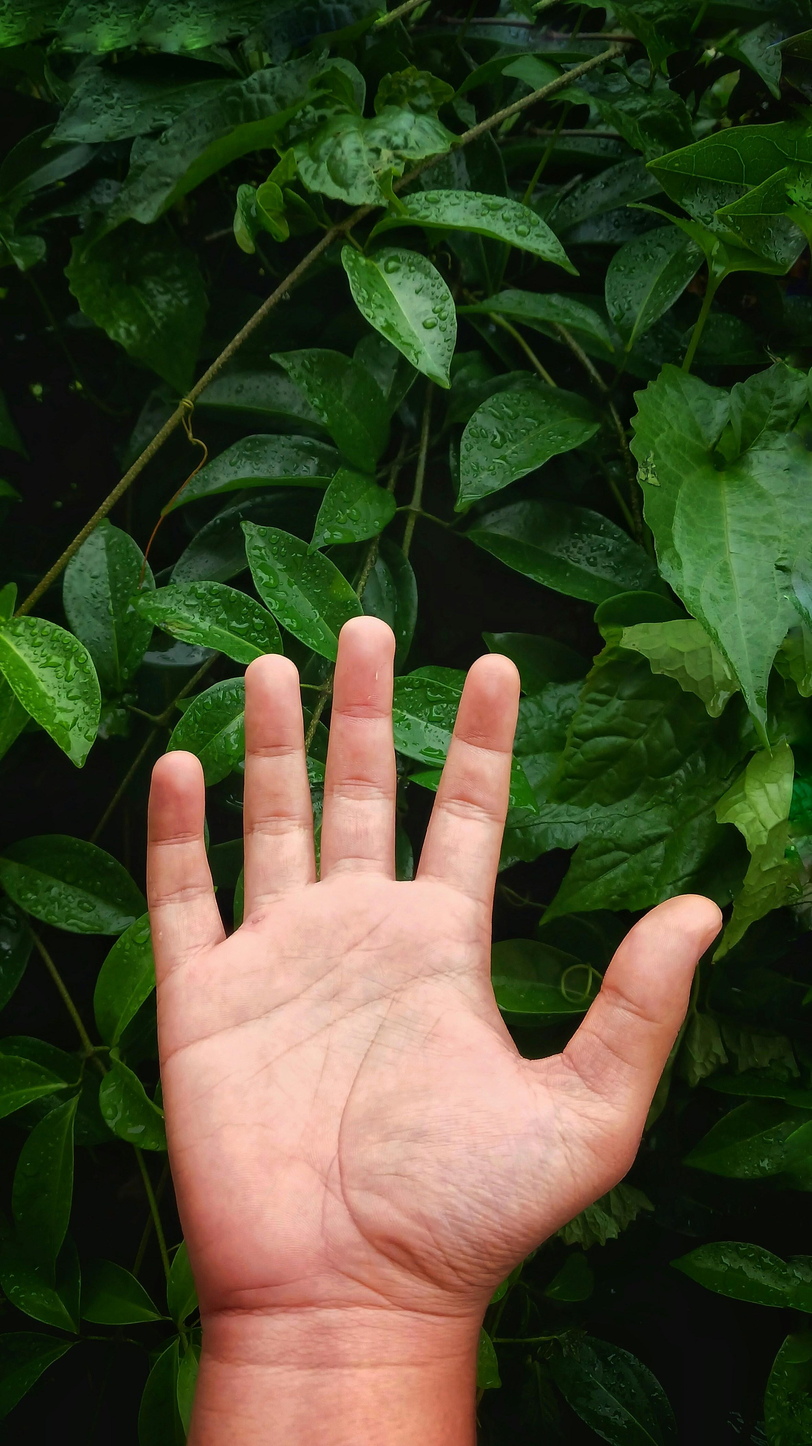family ring: (518, 1066, 595, 1203)
fate line: (294, 975, 342, 1148)
head line: (253, 962, 479, 1075)
heart line: (157, 909, 398, 1068)
life line: (322, 961, 468, 1275)
